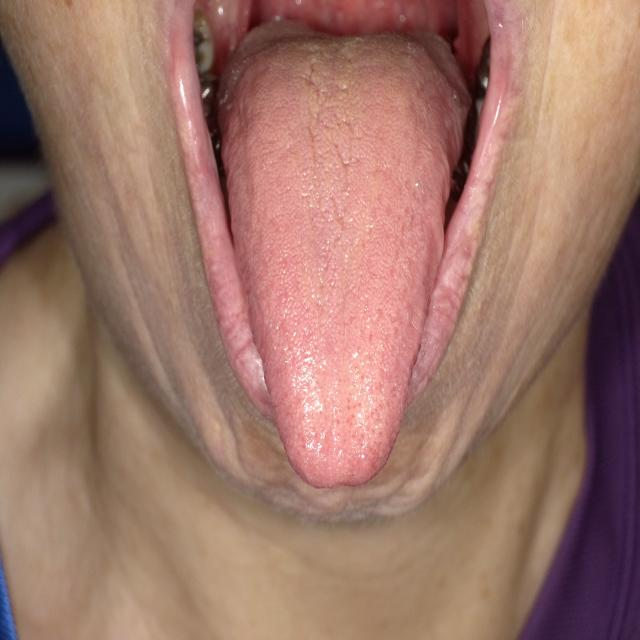huangtaishe: (214, 21, 474, 488)
liewenshe: (299, 64, 358, 232)
shoushe: (214, 21, 474, 488)
xinfeiao: (317, 468, 360, 489)
